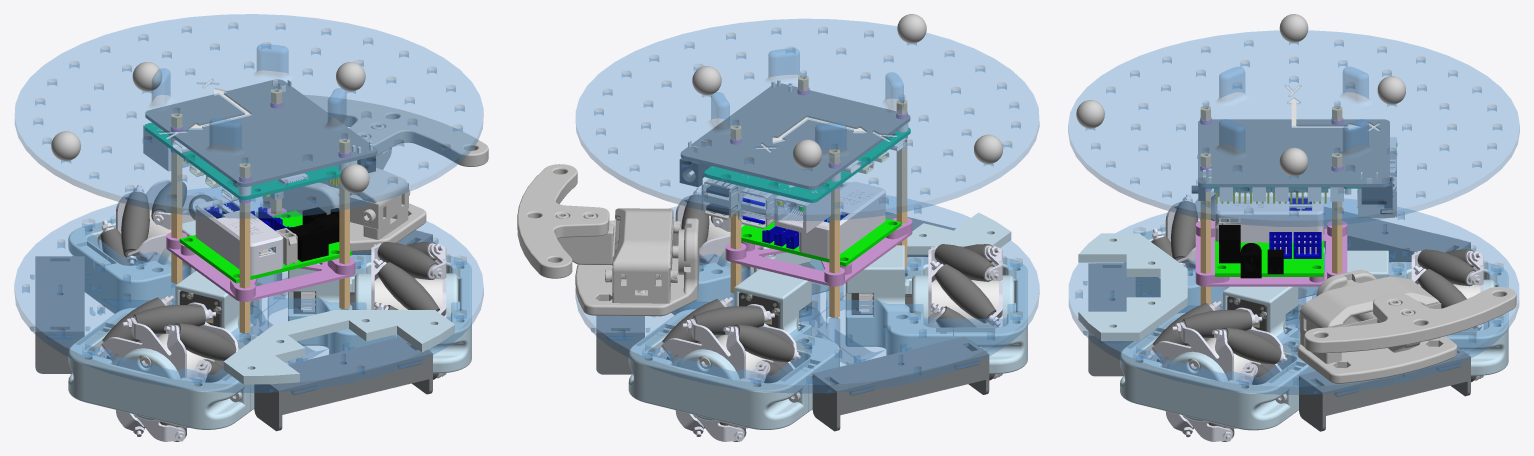
Rendered from hephaistos.glb.
3 views of the same model, side by side, from view 1: azimuth 30°, elevation 25°; view 2: azimuth 150°, elevation 25°; view 3: azimuth 270°, elevation 25° (orthographic). The views are drawn at different scales.
Parts seen in each view (by area): view 1: H_Top, H_Base, Part 7, DR_Frame_Outer, 18650_BatteryHolder.001, Part 1, 18650_BatteryHolder.002, Kraftaufnahme, DR_Frame_Inner.002, Board, U2D2_CASING.PRT, MW_Frame_1 (+35 smaller); view 2: H_Top, H_Base, Part 7, DR_Frame_Outer.002, 18650_BatteryHolder.002, DR_Frame_Inner, Kraftaufnahme, Bridge, DR_Frame_Inner.002, object 223, MW_Frame_1.002, DR_Frame_Outer (+30 smaller); view 3: H_Top, H_Base, Part 7, DR_Frame_Outer.001, Kraftaufnahme, Part 1, 18650_BatteryHolder, object 223, Bridge, Board, MW_Frame_1.001, U2D2_CASING.PRT (+26 smaller).
Part boxes in pixels (x1=…): H_Top: x1=15, y1=14, x2=483, y2=218; H_Base: x1=14, y1=187, x2=483, y2=394; Part 7: x1=145, y1=79, x2=377, y2=195; DR_Frame_Outer: x1=68, y1=329, x2=250, y2=429; 18650_BatteryHolder.001: x1=254, y1=337, x2=432, y2=431; Part 1: x1=223, y1=310, x2=454, y2=384; 18650_BatteryHolder.002: x1=35, y1=256, x2=84, y2=373; Kraftaufnahme: x1=304, y1=95, x2=488, y2=166; DR_Frame_Inner.002: x1=88, y1=220, x2=281, y2=313; Board: x1=179, y1=207, x2=351, y2=283; U2D2_CASING.PRT: x1=195, y1=198, x2=283, y2=275; MW_Frame_1: x1=100, y1=298, x2=238, y2=441; H_Top: x1=576, y1=19, x2=1039, y2=220; H_Base: x1=575, y1=195, x2=1039, y2=395; Part 7: x1=679, y1=79, x2=910, y2=189; DR_Frame_Outer.002: x1=628, y1=330, x2=814, y2=429; 18650_BatteryHolder.002: x1=812, y1=336, x2=989, y2=431; DR_Frame_Inner: x1=845, y1=245, x2=953, y2=355; Kraftaufnahme: x1=517, y1=164, x2=609, y2=278; Bridge: x1=612, y1=208, x2=673, y2=303; DR_Frame_Inner.002: x1=655, y1=269, x2=839, y2=411; object 223: x1=575, y1=218, x2=699, y2=316; MW_Frame_1.002: x1=660, y1=299, x2=796, y2=441; DR_Frame_Outer: x1=953, y1=257, x2=1027, y2=373; H_Top: x1=1068, y1=30, x2=1519, y2=226; H_Base: x1=1069, y1=197, x2=1518, y2=396; Part 7: x1=1191, y1=119, x2=1392, y2=208; DR_Frame_Outer.001: x1=1120, y1=336, x2=1300, y2=430; Kraftaufnahme: x1=1304, y1=287, x2=1516, y2=353; Part 1: x1=1078, y1=233, x2=1187, y2=340; 18650_BatteryHolder: x1=1299, y1=347, x2=1470, y2=431; object 223: x1=1297, y1=270, x2=1457, y2=383; Bridge: x1=1300, y1=276, x2=1440, y2=363; Board: x1=1215, y1=225, x2=1323, y2=278; MW_Frame_1.001: x1=1150, y1=303, x2=1283, y2=441; U2D2_CASING.PRT: x1=1215, y1=196, x2=1323, y2=242.
Size of the model in its own units: 0.2235 by 0.1364 by 0.2.
